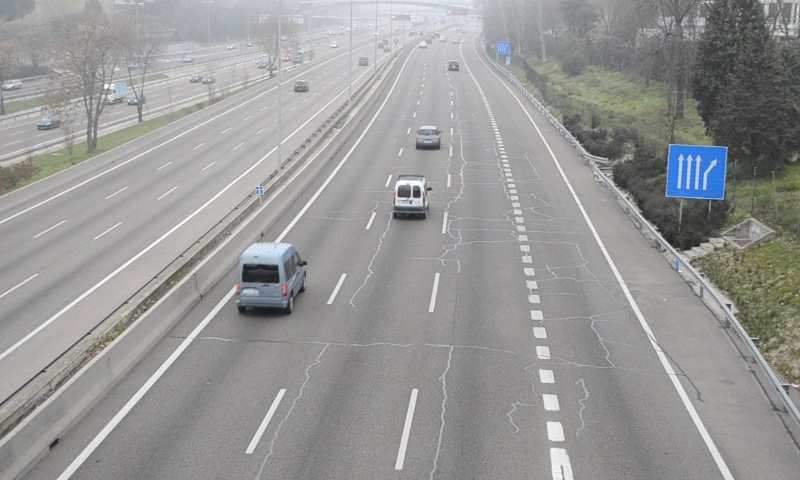car: (415, 125, 442, 150)
van: (236, 242, 304, 311), (392, 177, 428, 217)
